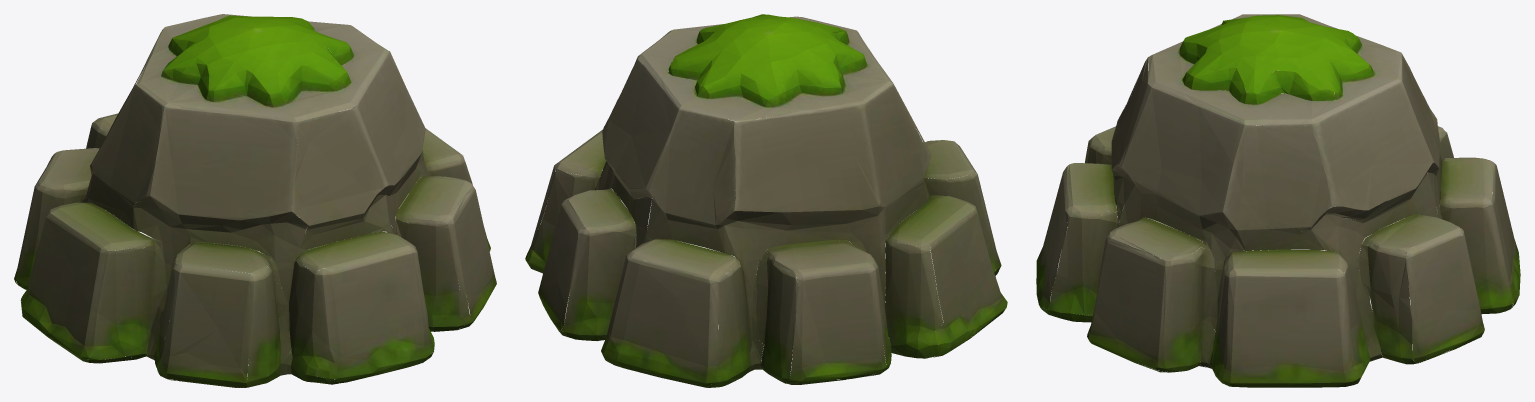
Rendered from grassy_rock.glb.
3 views of the same model, side by side, from view 1: azimuth 30°, elevation 25°; view 2: azimuth 150°, elevation 25°; view 3: azimuth 270°, elevation 25° (orthographic).
Visible parts, largest first — view 1: geometry_0; view 2: geometry_0; view 3: geometry_0.
Part boxes in pixels (x1=…): geometry_0: x1=14, y1=14, x2=496, y2=387; geometry_0: x1=525, y1=14, x2=1007, y2=387; geometry_0: x1=1036, y1=14, x2=1520, y2=387.
Size of the model in its own units: 0.9991 by 0.6008 by 0.9996.
1 material, 1 textured.
